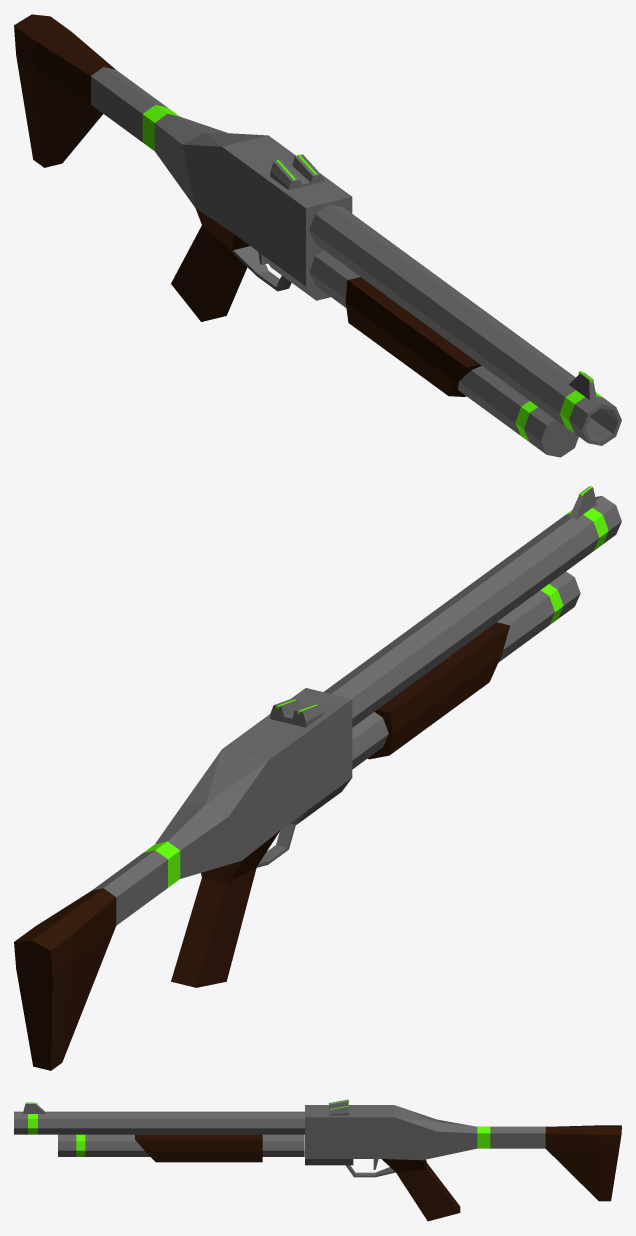
3 renders of one model, top to bottom at view 1: azimuth 30°, elevation 25°; view 2: azimuth 150°, elevation 25°; view 3: azimuth 270°, elevation 25°, orthographic. The views are drawn at different scales.
Parts seen in each view (by area): view 1: MS471; view 2: MS471; view 3: MS471.
Boxes of the visible parts, x1,y1,x2,y2 form: MS471: (14,14,621,457); MS471: (14,486,621,1070); MS471: (14,1099,621,1221).
Size of the model in its own units: 4.09 by 18.07 by 86.41.
